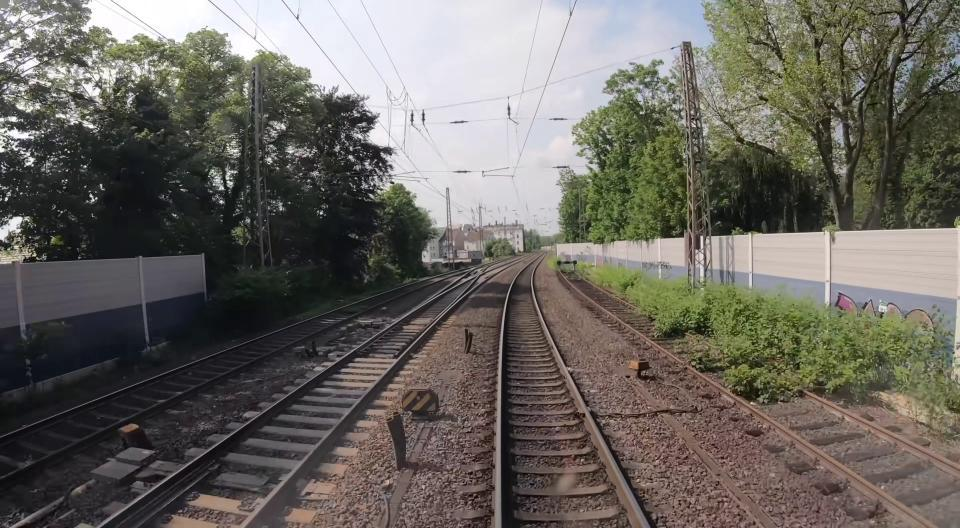Plant: (578, 263, 960, 434)
